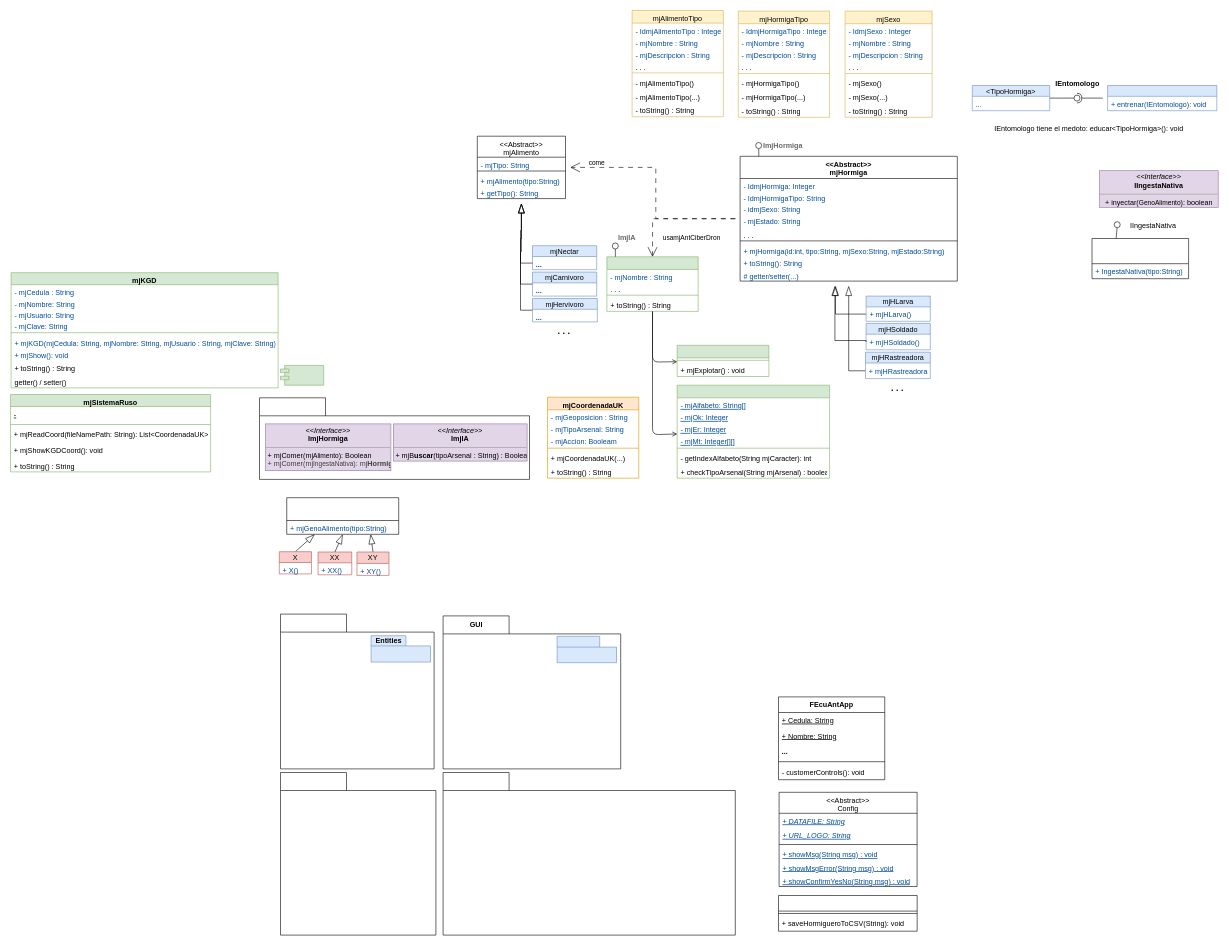
The diagram is 1229 pixels wide and 946 high, and some of its shapes have lost their labels. The box of each missing label's shape, as (x1, y1, x2, y2) in pixels:
<<Abstract>> IngestaNativa: (1091, 238, 1189, 279)
<<Abstract>> mjGenoAlimento: (286, 497, 399, 534)
BL: (280, 614, 434, 769)
DAC: (280, 772, 436, 935)
Entrenamiento: (1107, 85, 1217, 111)
HormigueroDAC: (778, 895, 917, 931)
Infra: (442, 772, 735, 935)
Interfaces: (259, 397, 530, 479)
mjAntCiberDron: (606, 256, 698, 311)
mjAutomata: (677, 385, 830, 478)
mjBBA: (677, 345, 769, 376)
Resource: (556, 636, 616, 663)
Tools: (280, 365, 324, 385)
